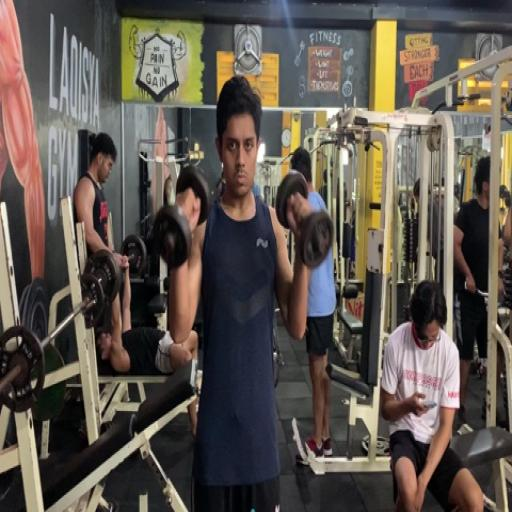exercise: (169, 72, 322, 510), (378, 278, 488, 510)
